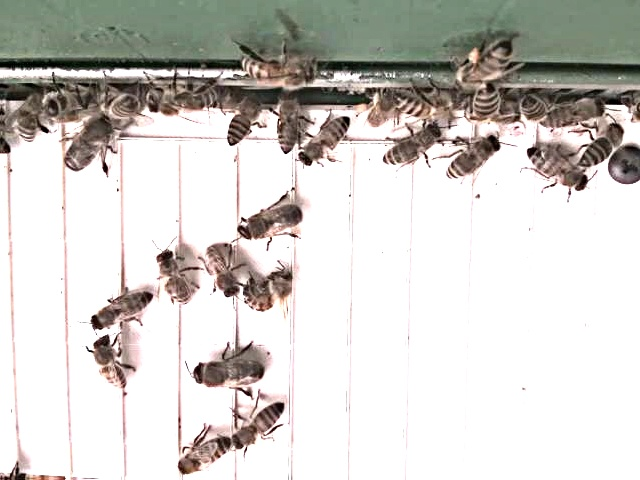Drone: (185, 350, 268, 395), (59, 115, 114, 178), (233, 200, 307, 246)
Worker: (520, 143, 591, 200), (80, 333, 137, 393), (227, 399, 287, 456), (376, 121, 444, 171), (87, 287, 152, 336), (442, 134, 502, 185), (171, 431, 234, 479), (295, 117, 352, 170), (151, 247, 194, 309), (237, 56, 319, 88), (200, 243, 242, 303), (574, 124, 624, 172), (539, 98, 605, 132), (240, 277, 296, 315), (224, 93, 261, 150), (272, 94, 304, 159), (388, 89, 455, 119), (467, 82, 504, 126)
